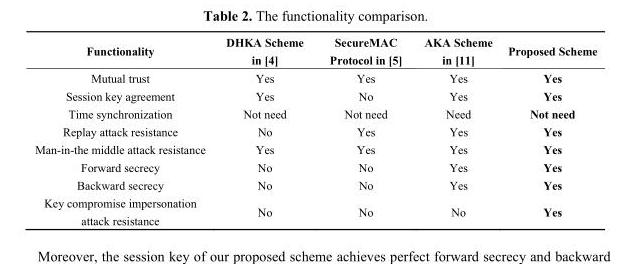table: (34, 35, 596, 226)
table column: (34, 35, 215, 226), (215, 35, 315, 226), (315, 35, 412, 226), (499, 35, 596, 226), (412, 35, 499, 226)
table column header: (34, 35, 596, 68)
table row: (34, 35, 596, 68), (34, 193, 596, 226), (34, 68, 596, 86), (34, 86, 596, 104), (34, 104, 596, 122), (34, 122, 596, 140), (34, 157, 596, 175), (34, 175, 596, 193), (34, 140, 596, 157)
